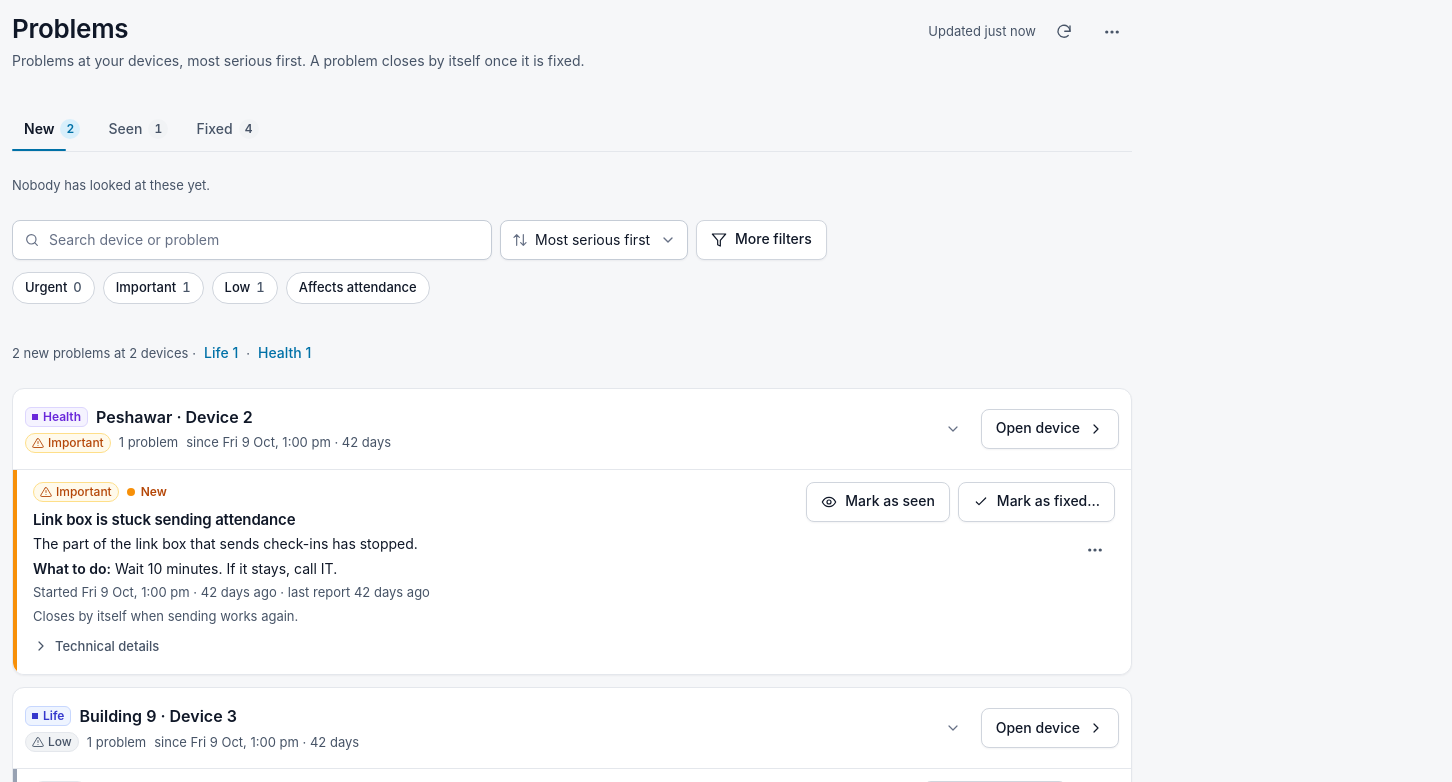
Test: Problems page › switches tabs through the URL and shows seen and fixed cards in plain words
The width and height of the screenshot is (1452, 782).
Expected: the heading "Link box is stuck sending attendance" is shown, [33,510,295,529]
Step 1. Click the tab "Seen 1" → [138, 129], box [96,107,180,151]
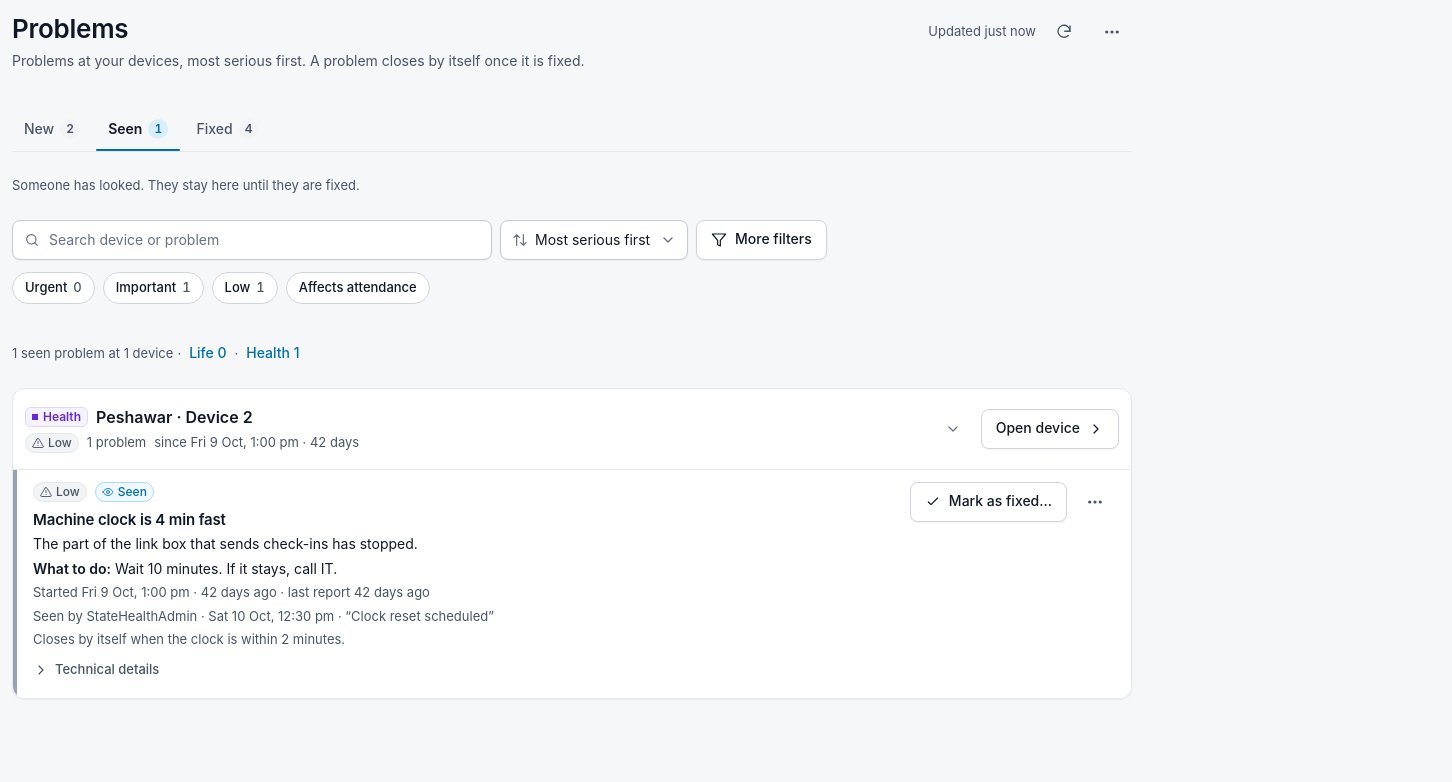
Now the 2nd text "Seen" is shown, box [118,485,147,499]
Now the text "“Clock reset scheduled”" is shown, box [345,608,494,624]
Now the button "Mark as seen" is gone
Step 2. Click the tab "Fixed 4" → [228, 129], box [184,107,271,151]
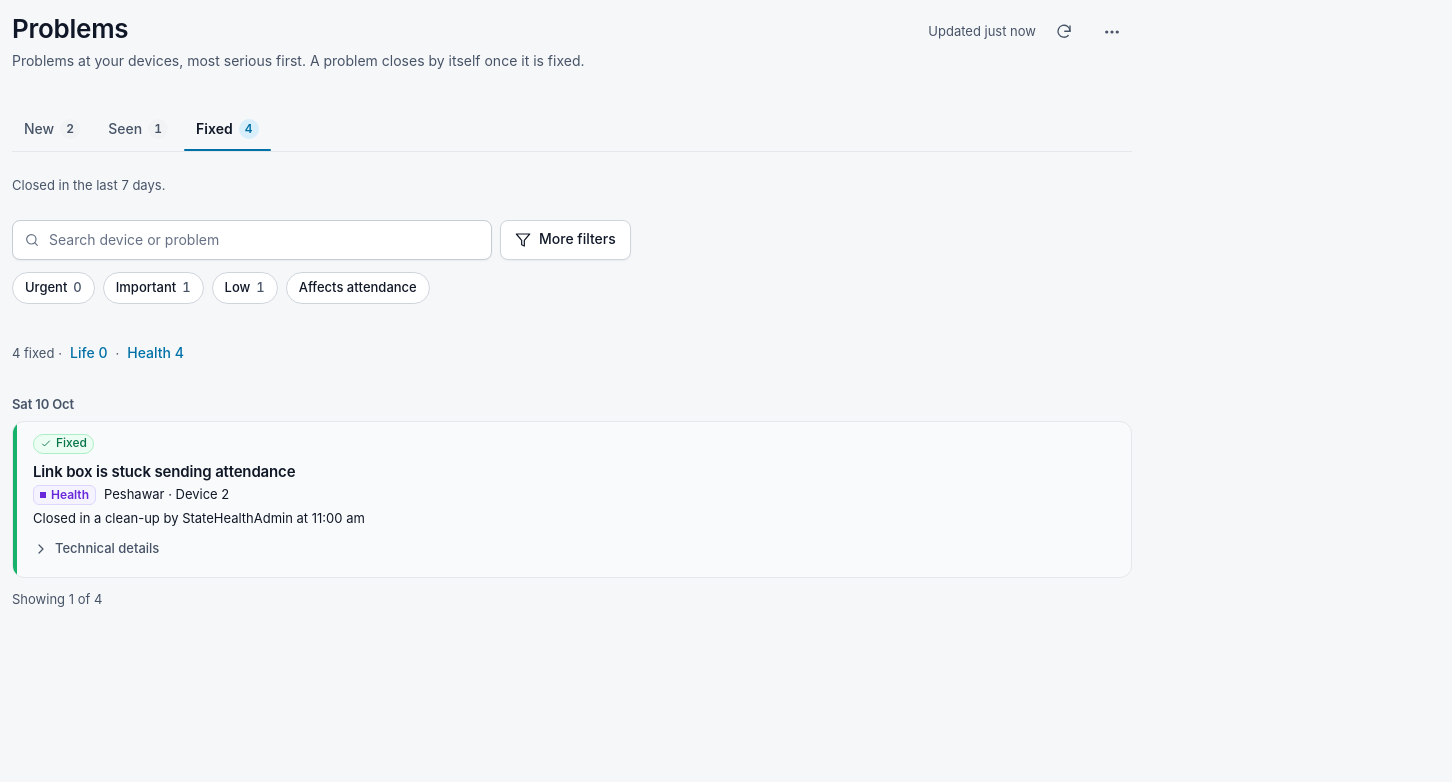
Now the text "Fixed" below "Sat 10 Oct" is shown, box [56,436,87,450]
Now the text "Closed in a clean-up by StateHealthAdmin at 11:00 am" is shown, box [33,510,365,526]
Now the button "Mark as fixed" is gone
